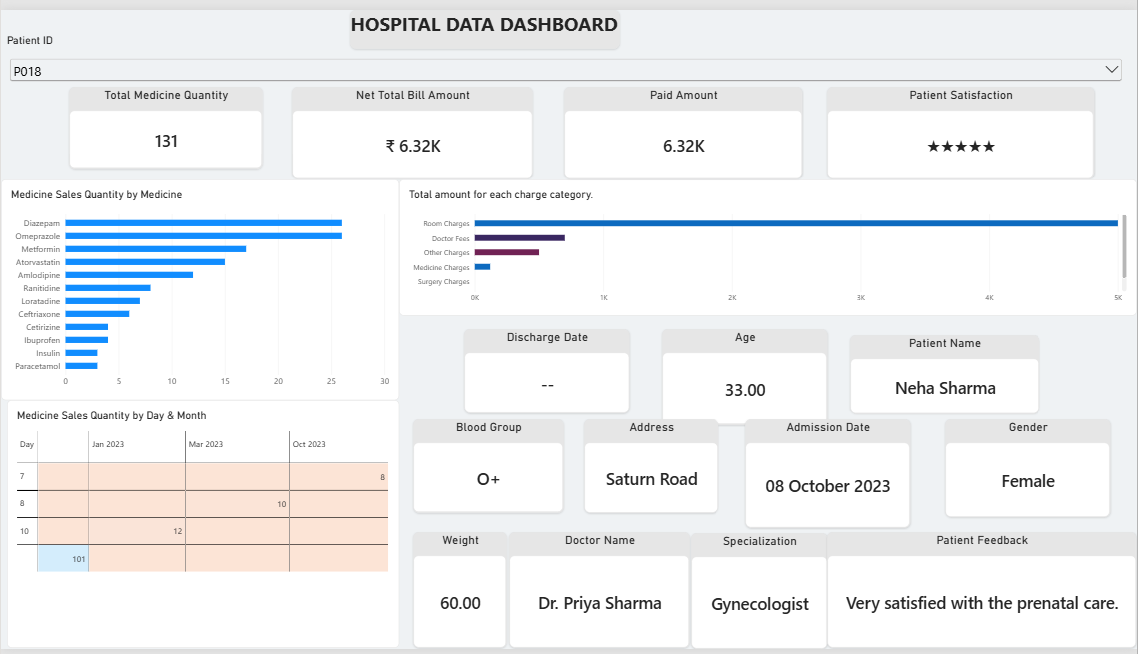

What the dashboard file says about the page in this screenshot:
{"tool":"powerbi","page":{"name":"Page 1","canvas":[1920,1080],"ordinal":0},"visuals":[{"type":"slicer","title":"Patient ID","fields":{"Values":["vw_patient_info.patient_id"]},"box":[9.7,40.7,1889,128],"z":0},{"type":"cardVisual","title":"Total Medicine Quantity","fields":{"Data":["_Measures.Total Sales Quantity"]},"box":[114.4,129.9,327.6,138.8],"z":1000},{"type":"cardVisual","title":"Net Total Bill Amount","fields":{"Data":["_Measures.Net Total Bill Amount"]},"box":[492.6,129.9,407.3,155.5],"z":2000},{"type":"cardVisual","title":"Patient Satisfaction","fields":{"Data":["_Measures.Patient Satisfaction"]},"box":[1396.4,129.9,451.9,155.2],"z":3000},{"type":"clusteredBarChart","title":"Medicine Sales Quantity by Medicine","fields":{"Category":["vw_medical_stock_info.medicine_name"],"Y":["_Measures.Total Sales Quantity"]},"box":[0,285.1,673,374.3],"z":4000},{"type":"pivotTable","title":"Medicine Sales Quantity by Day & Month","fields":{"Columns":["Calendar.Month & Year"],"Rows":["Calendar.Day"],"Values":["_Measures.Total Sales Quantity"]},"box":[10.1,659.2,662.5,419.2],"z":5000},{"type":"clusteredBarChart","title":"Total amount for each charge category.","fields":{"Category":["Patient Charges.charges_type"],"Y":["Sum(Patient Charges.value)"]},"box":[673,285.1,1247,230.8],"z":6000},{"type":"cardVisual","title":"Patient Name","fields":{"Data":["Min(vw_patient_info.name)"]},"box":[1434.2,548.9,320,133.1],"z":7000},{"type":"cardVisual","title":"Age","fields":{"Data":["Avg(vw_patient_info.age)"]},"box":[1116.5,539.6,279.8,161.5],"z":8000},{"type":"cardVisual","title":"Gender","fields":{"Data":["Min(vw_patient_info.gender)"]},"box":[1594.7,691.6,279.8,166.1],"z":9000},{"type":"cardVisual","title":"Blood Group","fields":{"Data":["Min(vw_patient_info.blood_group)"]},"box":[696.1,691.4,254.6,158.8],"z":10000},{"type":"cardVisual","title":"Admission Date","fields":{"Data":["Min(vw_patient_info.admission_date)"]},"box":[1256.6,691.4,279.8,184.3],"z":11000},{"type":"cardVisual","title":"Discharge Date","fields":{"Data":["Max(vw_patient_info.discharge_date)"]},"box":[782.5,539.6,280.3,142.5],"z":12000},{"type":"cardVisual","title":"Address","fields":{"Data":["Min(vw_patient_info.address)"]},"box":[985.7,691.4,227.5,159.2],"z":13000},{"type":"cardVisual","title":"Weight","fields":{"Data":["Avg(vw_patient_info.weight)"]},"box":[696.1,882.9,158.8,196.2],"z":14000},{"type":"cardVisual","title":"Doctor Name","fields":{"Data":["Min(vw_patient_info.doctor_name)"]},"box":[859.2,882.4,306,196.2],"z":15000},{"type":"cardVisual","title":"Specialization","fields":{"Data":["Min(vw_patient_info.specialization)"]},"box":[1165.6,884.4,231.2,196.2],"z":16000},{"type":"cardVisual","title":"Patient Feedback","fields":{"Data":["Min(vw_patient_info.patient_feedback)"]},"box":[1396.8,882.9,523.2,196.2],"z":17000},{"type":"cardVisual","title":"Paid Amount","fields":{"Data":["Sum(vw_patient_info.paid_amount)"]},"box":[952.2,129.9,403.4,155.2],"z":18000},{"type":"textbox","box":[589.6,0,455.8,65.9],"z":20000}]}

Visuals, with their boxes in screenshot pixels (x1, y1, x2, y2), scaled from the page's 1920x1080 canvas onto the 1140x654 screenshot:
"Patient ID" slicer: crop(6, 25, 1127, 102)
"Total Medicine Quantity" cardVisual: crop(68, 79, 262, 163)
"Net Total Bill Amount" cardVisual: crop(292, 79, 534, 173)
"Patient Satisfaction" cardVisual: crop(829, 79, 1097, 173)
"Medicine Sales Quantity by Medicine" clusteredBarChart: crop(0, 173, 400, 399)
"Medicine Sales Quantity by Day & Month" pivotTable: crop(6, 399, 399, 653)
"Total amount for each charge category." clusteredBarChart: crop(400, 173, 1139, 312)
"Patient Name" cardVisual: crop(852, 332, 1042, 413)
"Age" cardVisual: crop(663, 327, 829, 425)
"Gender" cardVisual: crop(947, 419, 1113, 519)
"Blood Group" cardVisual: crop(413, 419, 564, 515)
"Admission Date" cardVisual: crop(746, 419, 912, 530)
"Discharge Date" cardVisual: crop(465, 327, 631, 413)
"Address" cardVisual: crop(585, 419, 720, 515)
"Weight" cardVisual: crop(413, 535, 508, 653)
"Doctor Name" cardVisual: crop(510, 534, 692, 653)
"Specialization" cardVisual: crop(692, 536, 829, 653)
"Patient Feedback" cardVisual: crop(829, 535, 1139, 653)
"Paid Amount" cardVisual: crop(565, 79, 805, 173)
textbox: crop(350, 0, 621, 40)
